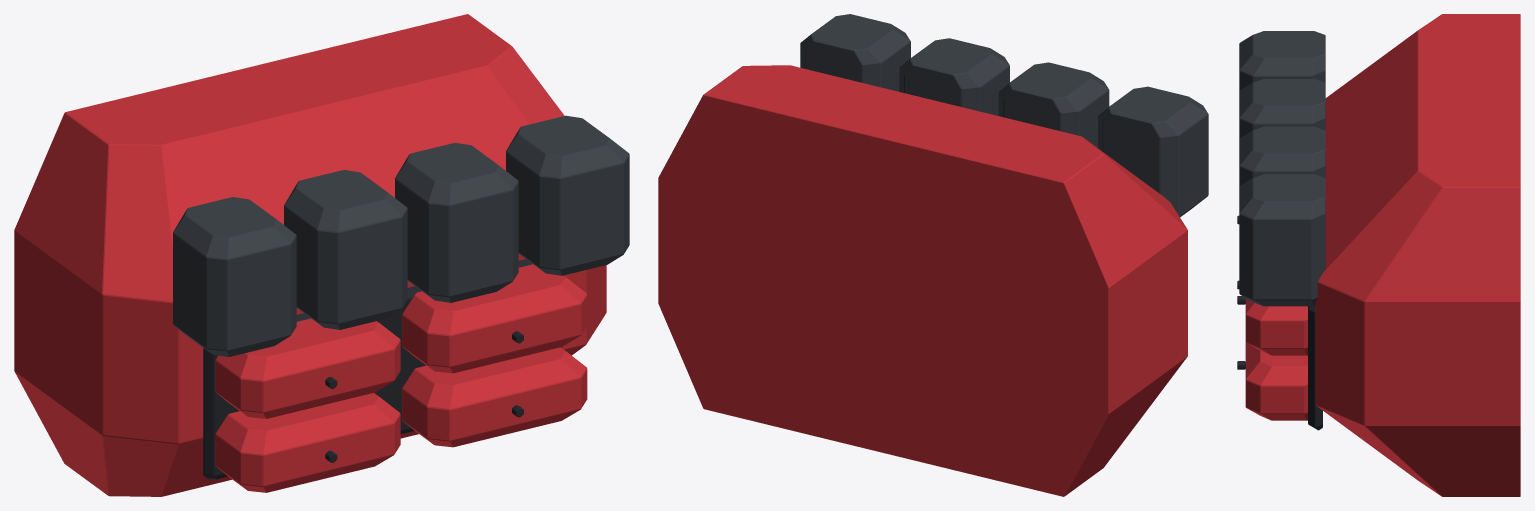
File: HandFront_Set02_Bastion.fbx
3 renders of one model, left to right at view 1: azimuth 30°, elevation 25°; view 2: azimuth 150°, elevation 25°; view 3: azimuth 270°, elevation 25°, orthographic. The views are drawn at different scales.
Parts seen in each view (by area): view 1: HandFront_Set02_Bastion; view 2: HandFront_Set02_Bastion; view 3: HandFront_Set02_Bastion.
Boxes of the visible parts, x1=… form: HandFront_Set02_Bastion: x1=14, y1=14, x2=629, y2=496; HandFront_Set02_Bastion: x1=658, y1=14, x2=1208, y2=496; HandFront_Set02_Bastion: x1=1237, y1=14, x2=1520, y2=496.
Size of the model in its own units: 0.3 by 0.2 by 0.1656.
